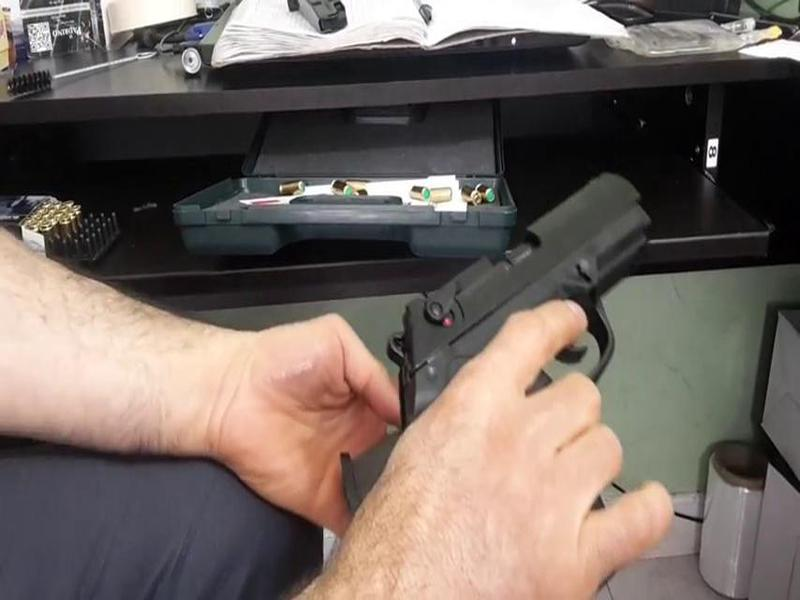Pistola: (356, 172, 659, 423)
